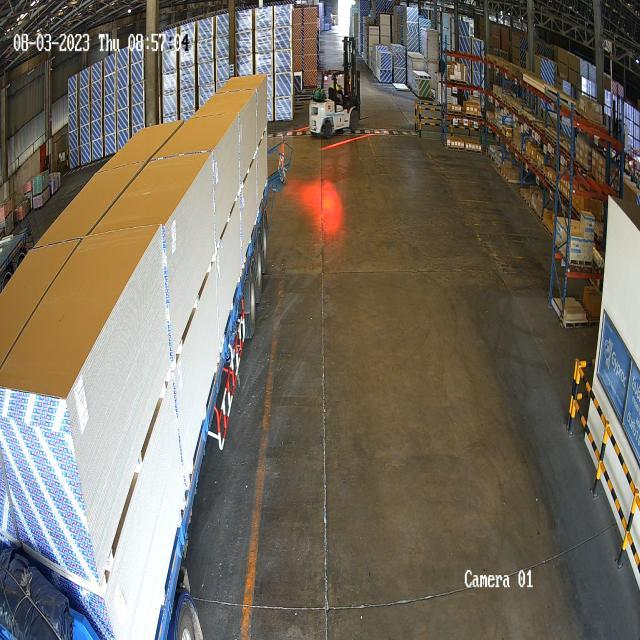forklift: (309, 66, 362, 140)
